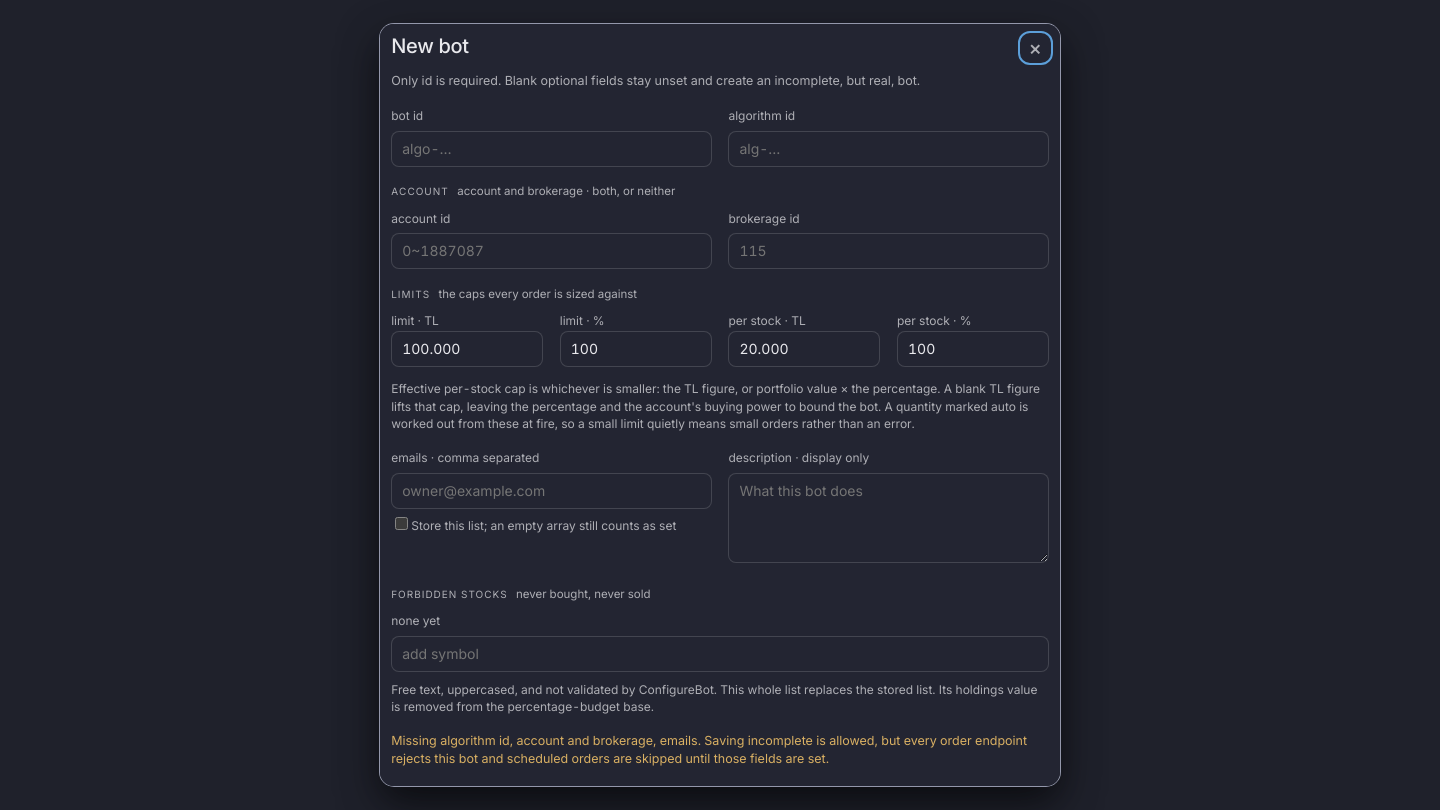
Test: bot ConfigureBot dialogs › sends an id-only Add once and names it Created only after defaults reconcile
Type "fresh" into the field labelled "bot id". click: (551, 149)
box: x1=391 y1=131 x2=712 y2=167
(page scrolled)
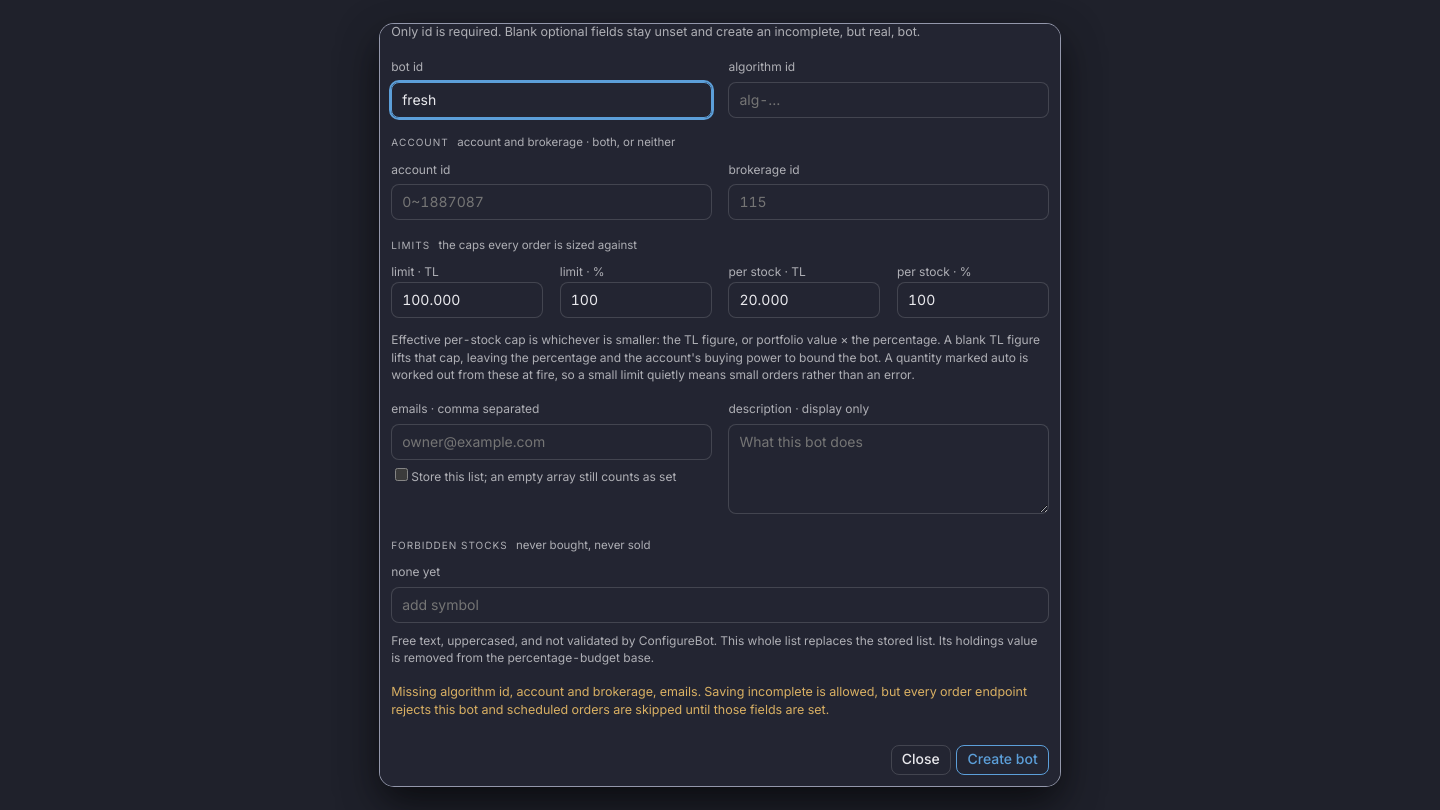
Click the button "Create bot". click: (1003, 760)
box: x1=956 y1=745 x2=1049 y2=775
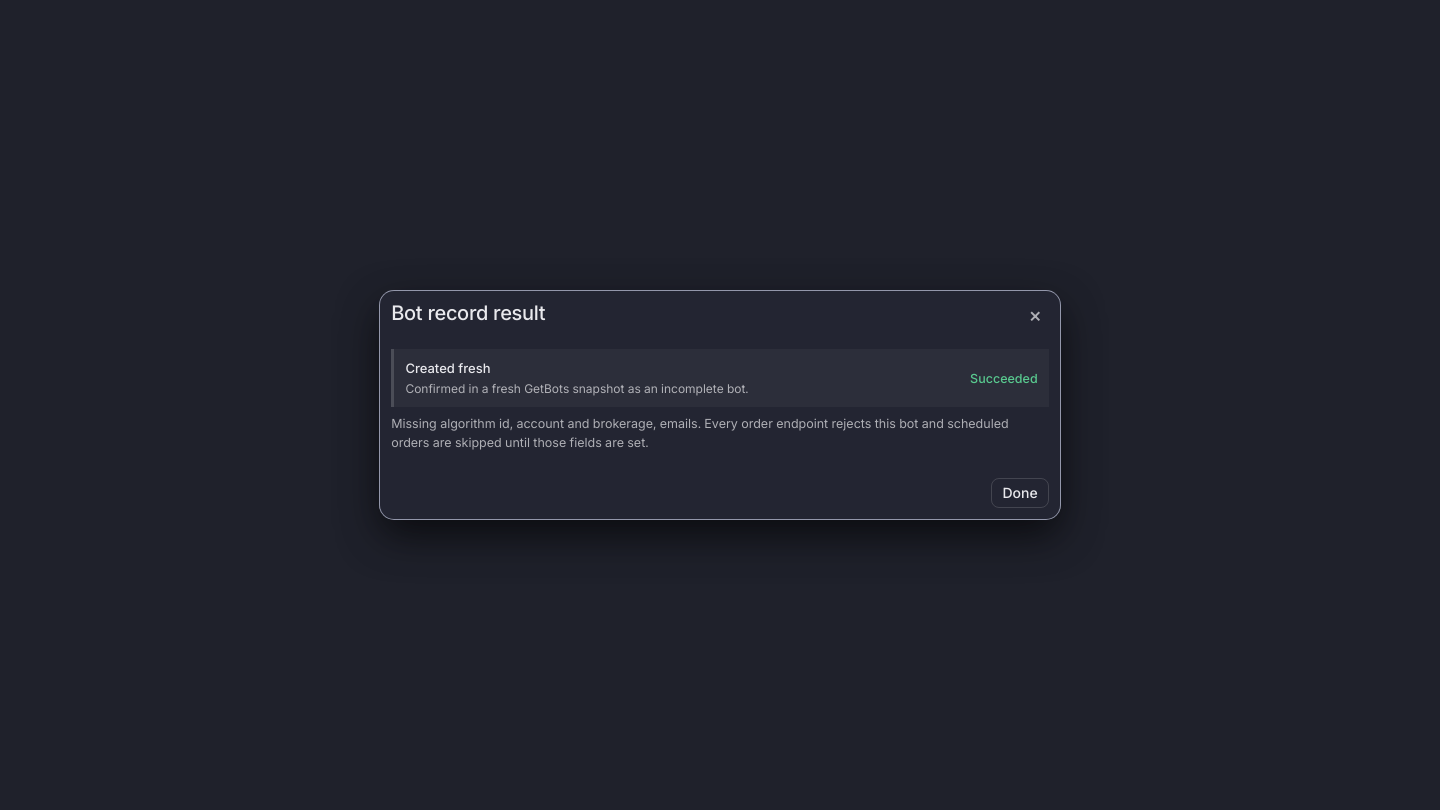
Expected: the text "Created fresh" is shown, x1=405 y1=360 x2=490 y2=376
